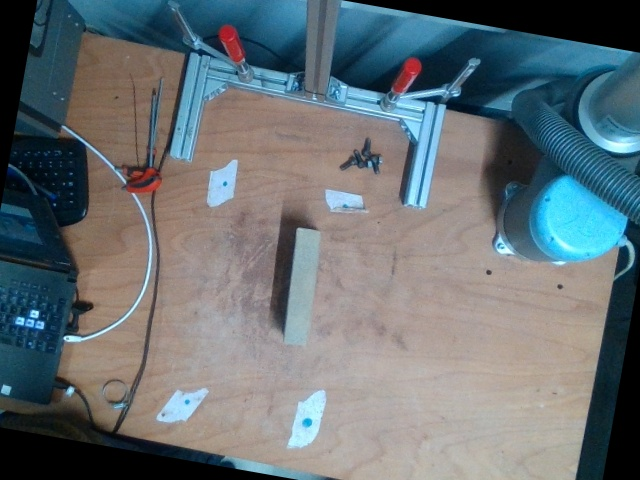brick-side: (287, 231, 317, 342)
